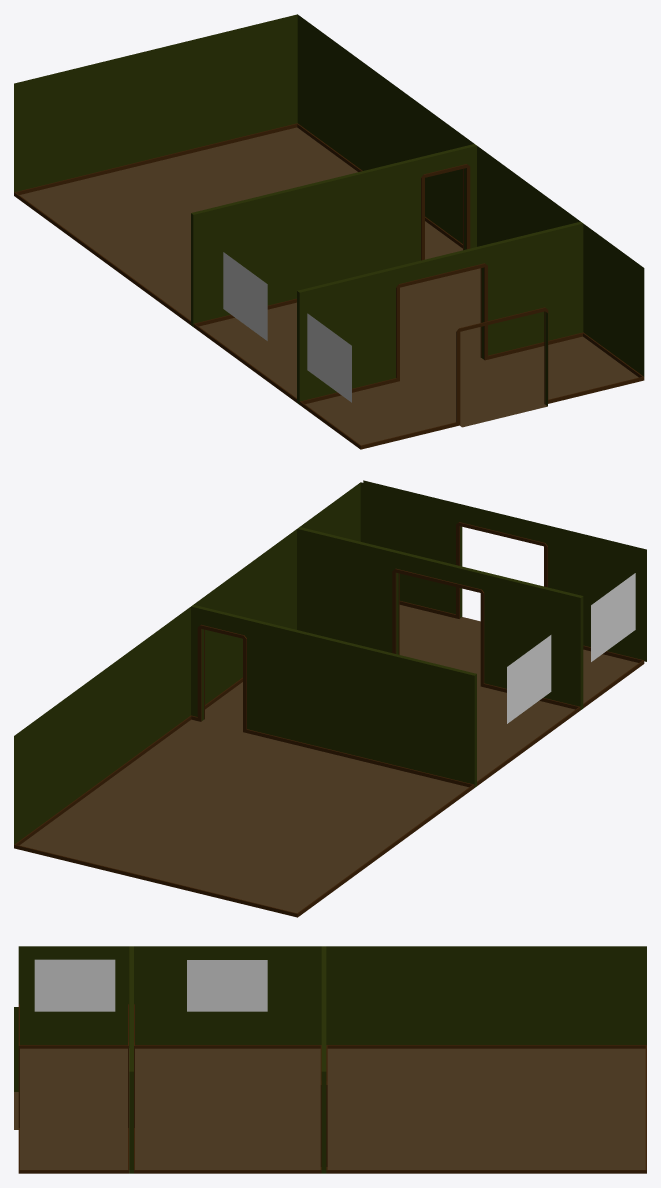
Rendered from QG-depart_murs.fbx.
3 renders of one model, top to bottom at view 1: azimuth 30°, elevation 25°; view 2: azimuth 150°, elevation 25°; view 3: azimuth 270°, elevation 25°, orthographic. The views are drawn at different scales.
Parts seen in each view (by area): view 1: structure.001; view 2: structure.001; view 3: structure.001.
Boxes of the visible parts, bbox=[...] form: structure.001: bbox=[14, 14, 644, 449]; structure.001: bbox=[14, 480, 646, 917]; structure.001: bbox=[14, 946, 646, 1173].
Size of the model in its own units: 643 by 243 by 1371.
